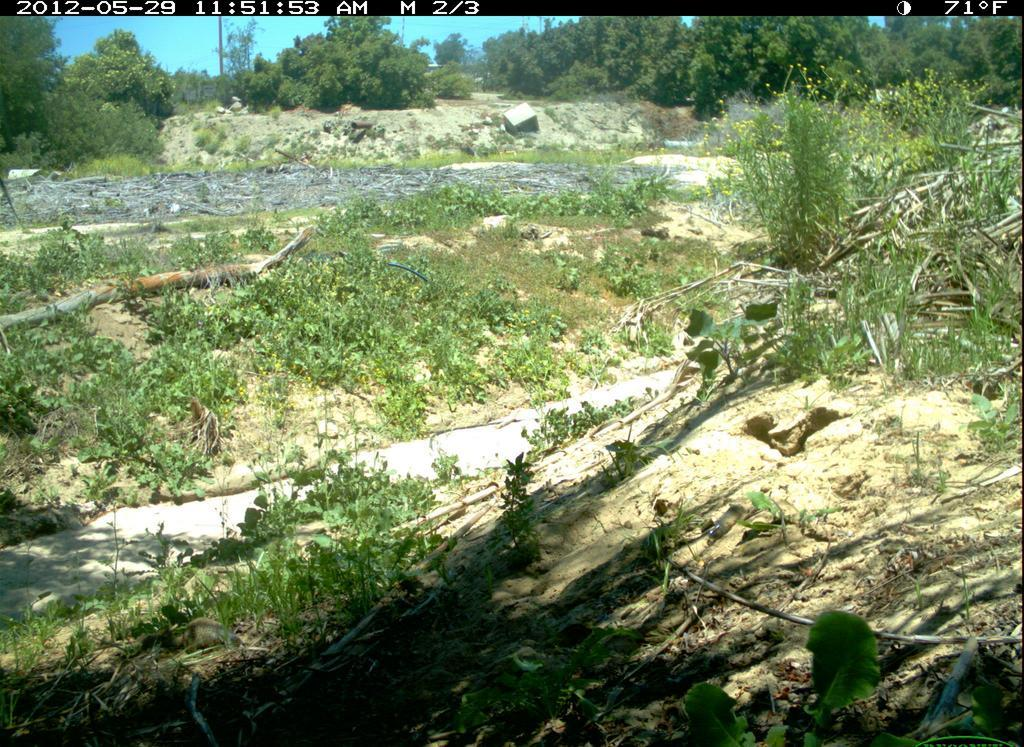squirrel: (159, 610, 257, 658)
